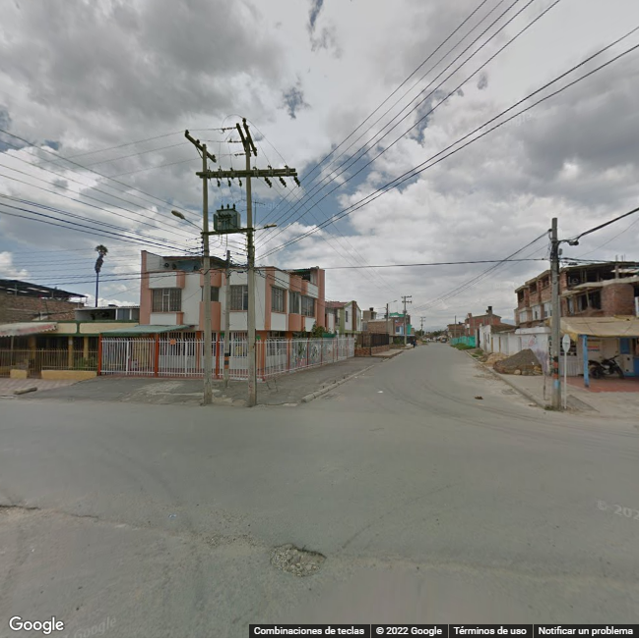D10: (8, 492, 163, 533)
D40: (265, 539, 332, 583)
